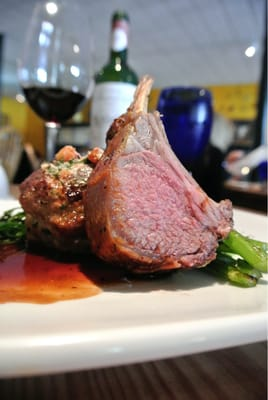soup: (81, 73, 258, 281)
